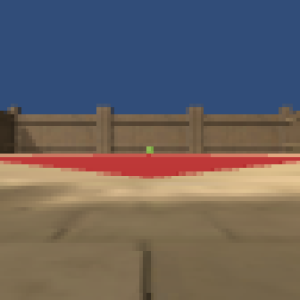deathZone: (1, 156, 300, 181)
goodGoal: (144, 146, 154, 155)
